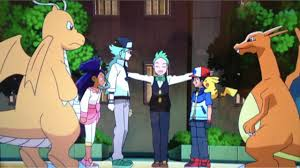charizard: (227, 23, 300, 167)
pikachu: (201, 75, 237, 101)
